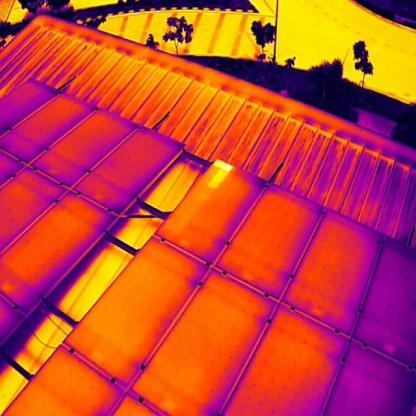anomaly: (208, 158, 233, 189)
